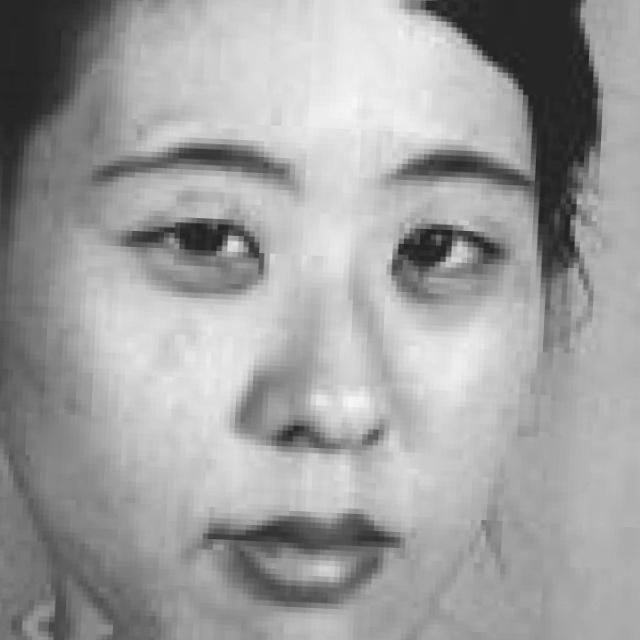disgust: (55, 41, 583, 636)
